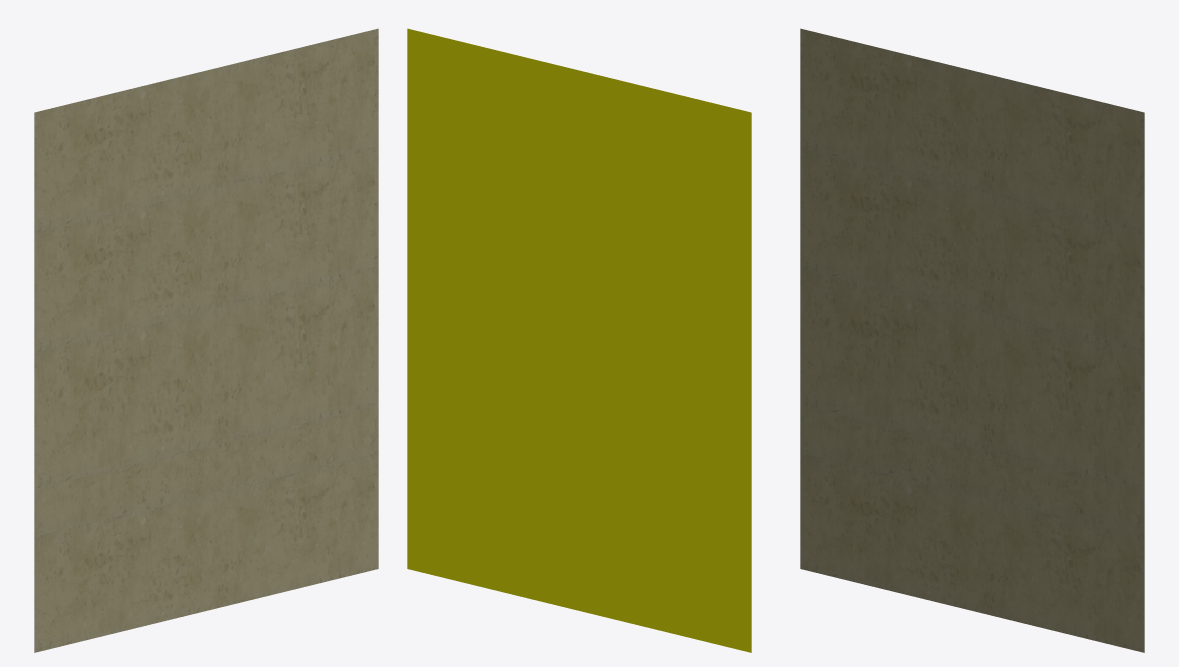
The model's file is trim-plain-3.glb.
3 renders of one model, left to right at view 1: azimuth 30°, elevation 25°; view 2: azimuth 150°, elevation 25°; view 3: azimuth 330°, elevation 25°, orthographic.
Parts seen in each view (by area): view 1: Trim_Plain_3; view 2: Trim_Plain_3; view 3: Trim_Plain_3.
Part boxes in pixels (x1,y1,x2,y2): Trim_Plain_3: [34, 28, 378, 652]; Trim_Plain_3: [407, 28, 751, 652]; Trim_Plain_3: [800, 28, 1144, 652].
Size of the model in its own units: 2 by 3 by 0.2.
Materials: 2 (1 with a texture image).
